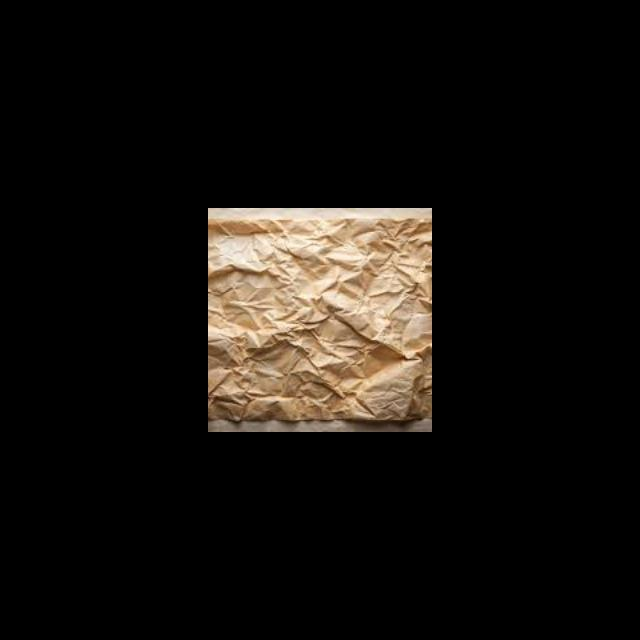paper: (208, 212, 432, 421)
